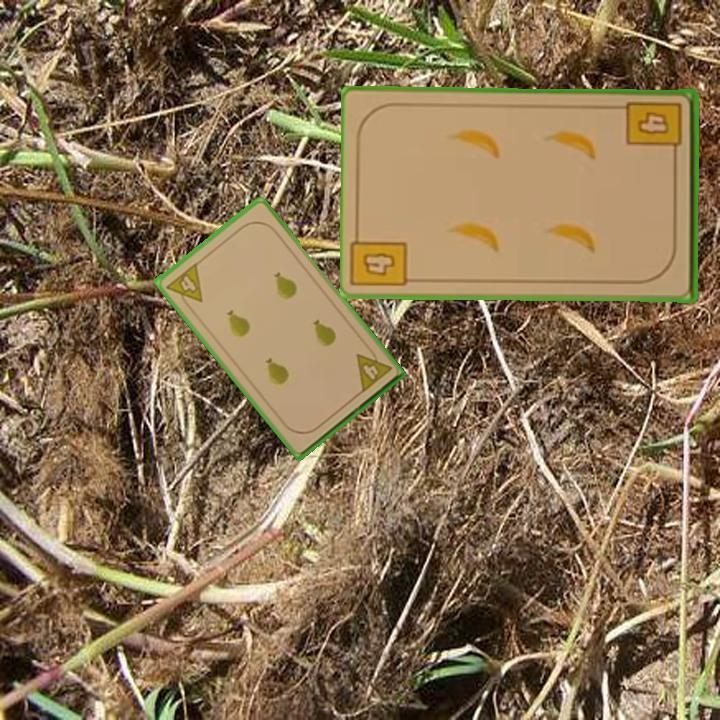4b: (624, 97, 685, 163), (358, 249, 397, 280)
4p: (162, 259, 205, 313), (352, 343, 395, 396)
